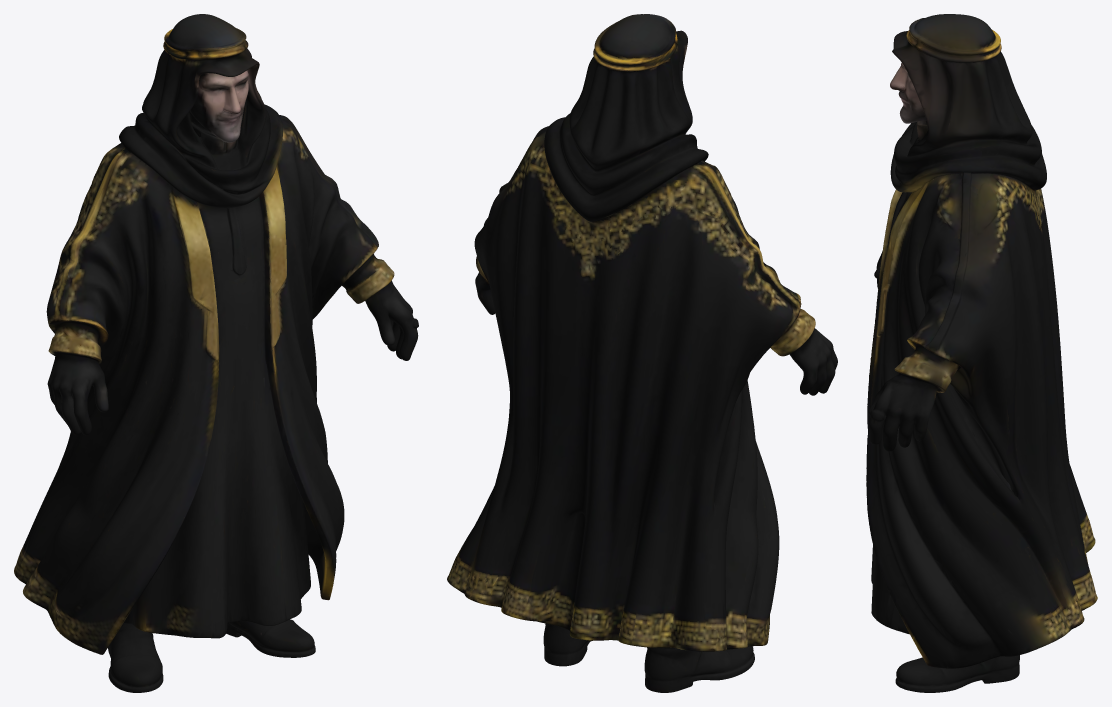
3 views of the same model, side by side, from view 1: azimuth 30°, elevation 25°; view 2: azimuth 150°, elevation 25°; view 3: azimuth 270°, elevation 25° (orthographic).
Visible parts, largest first — view 1: node_0; view 2: node_0; view 3: node_0.
Boxes of the visible parts, x1,y1,x2,y2 form: node_0: (14,14,418,692); node_0: (447,14,837,692); node_0: (866,14,1097,692).
Bounding box in the file's own units: 1.07 × 1.85 × 0.6123.
Materials: 1 (1 with a texture image).
